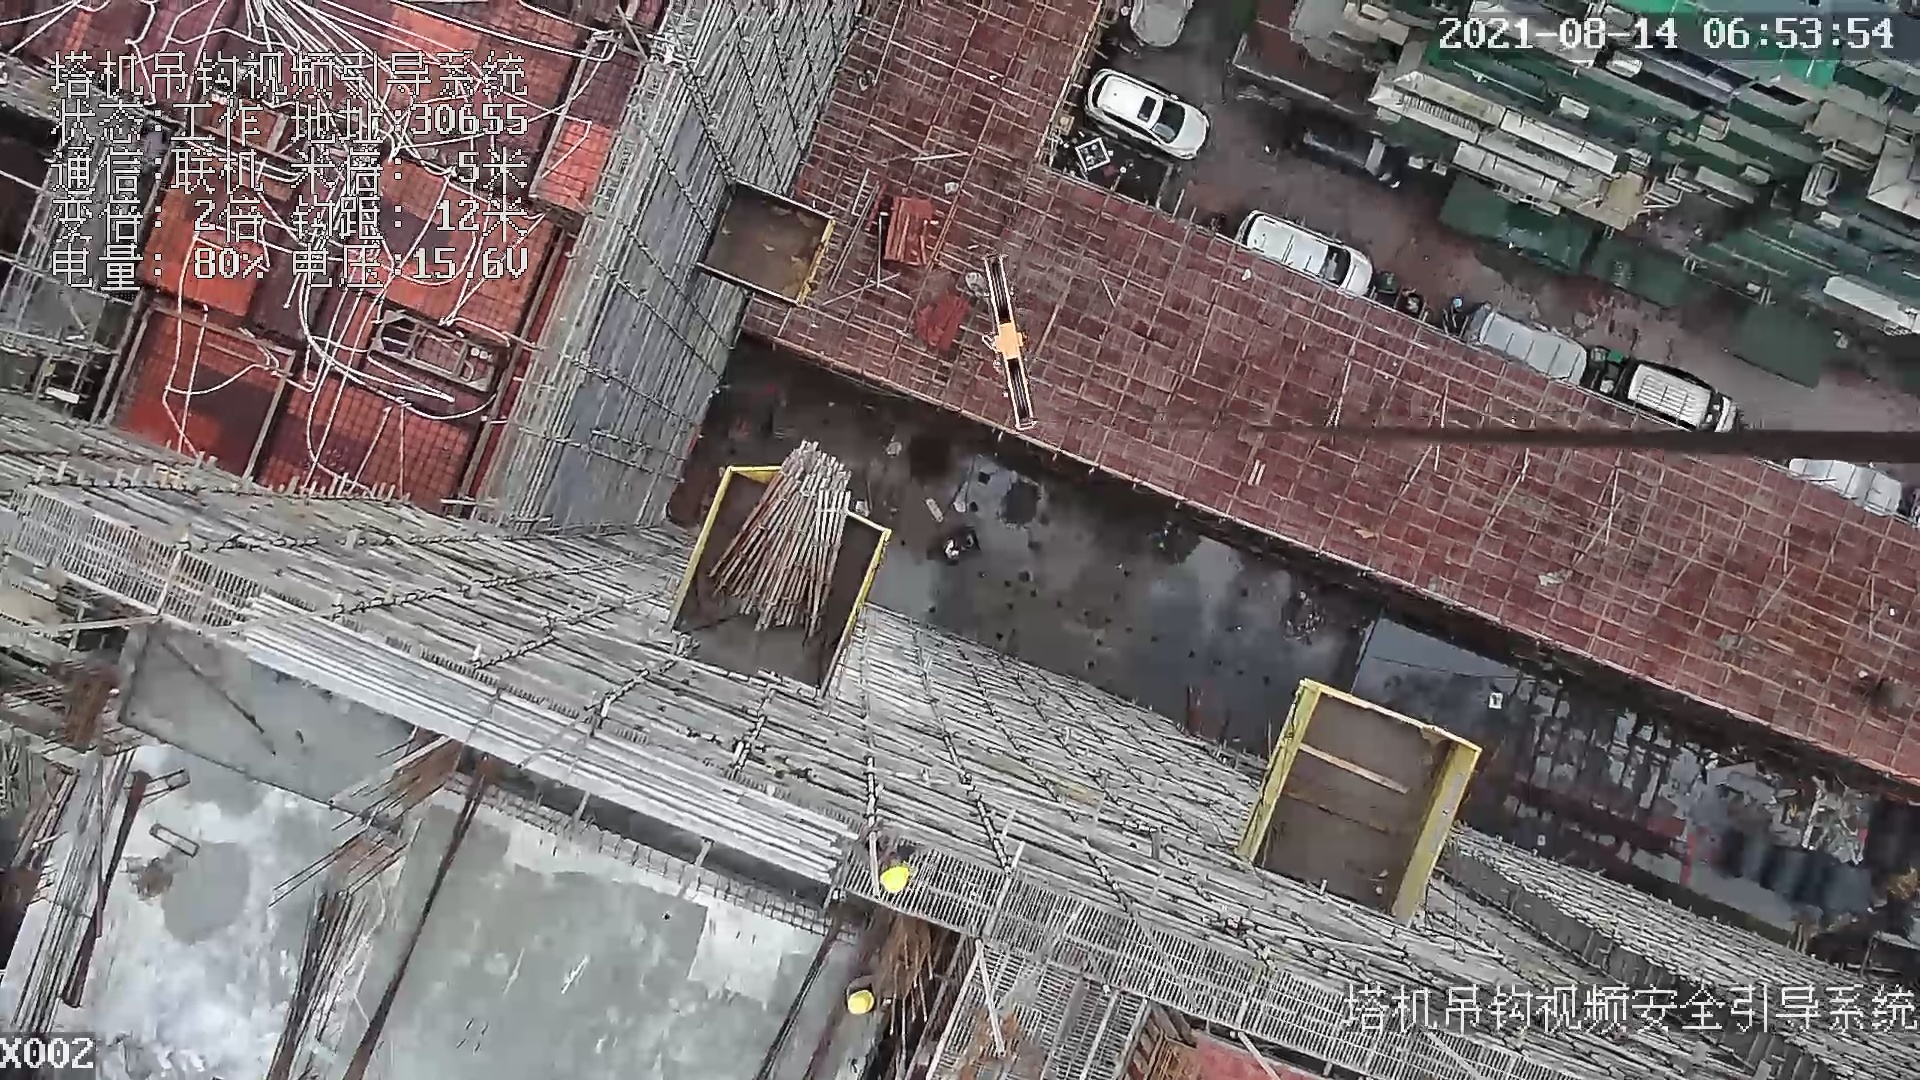helmet: (879, 868, 910, 892), (846, 990, 874, 1015)
hook: (969, 247, 1049, 437)
person: (876, 832, 924, 899), (840, 971, 894, 1019)
rebar: (223, 595, 854, 880), (253, 888, 370, 1080)
scaffold: (709, 439, 852, 637)
